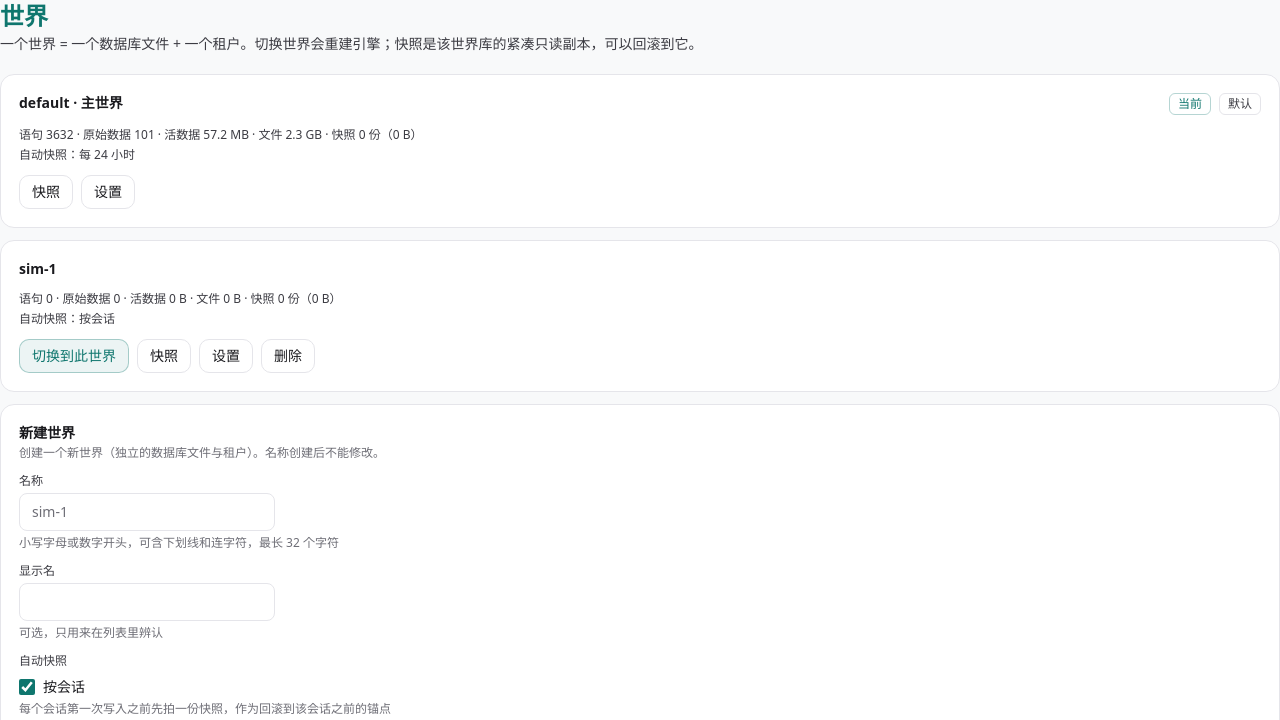
Test: /worlds 回滚到快照 › 每个快照行都有「回滚到此」;点开只弹确认框,显示丢弃后续与归档说明,不直接回滚
The image size is (1280, 720).
What coordinates should you click on to do the following:
click the button "快照" below "自动快照：按会话"
I would click on:
 (164, 356)
Its box is left=137, top=339, right=191, bottom=373.
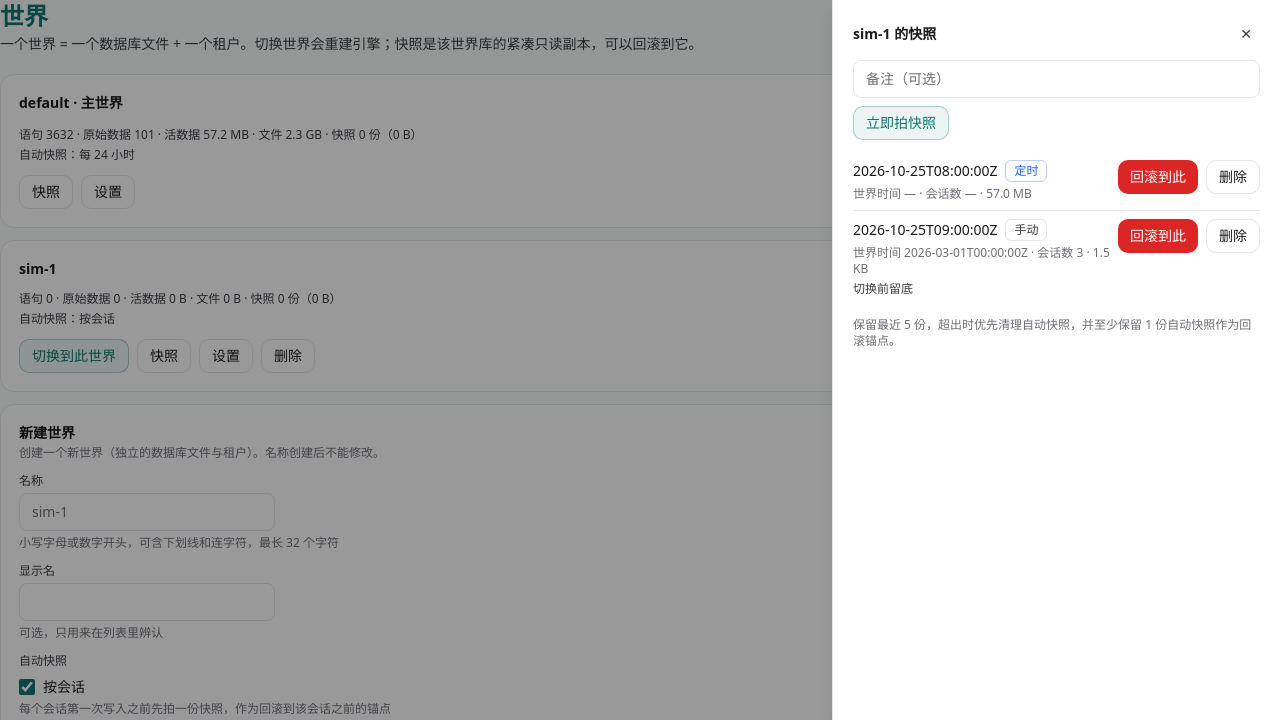
What coordinates should you click on to do the following:
click the button "回滚到此" in the row of "2026-10-25T09:00:00Z"
I would click on:
 (1158, 236)
Its box is left=1118, top=219, right=1198, bottom=253.
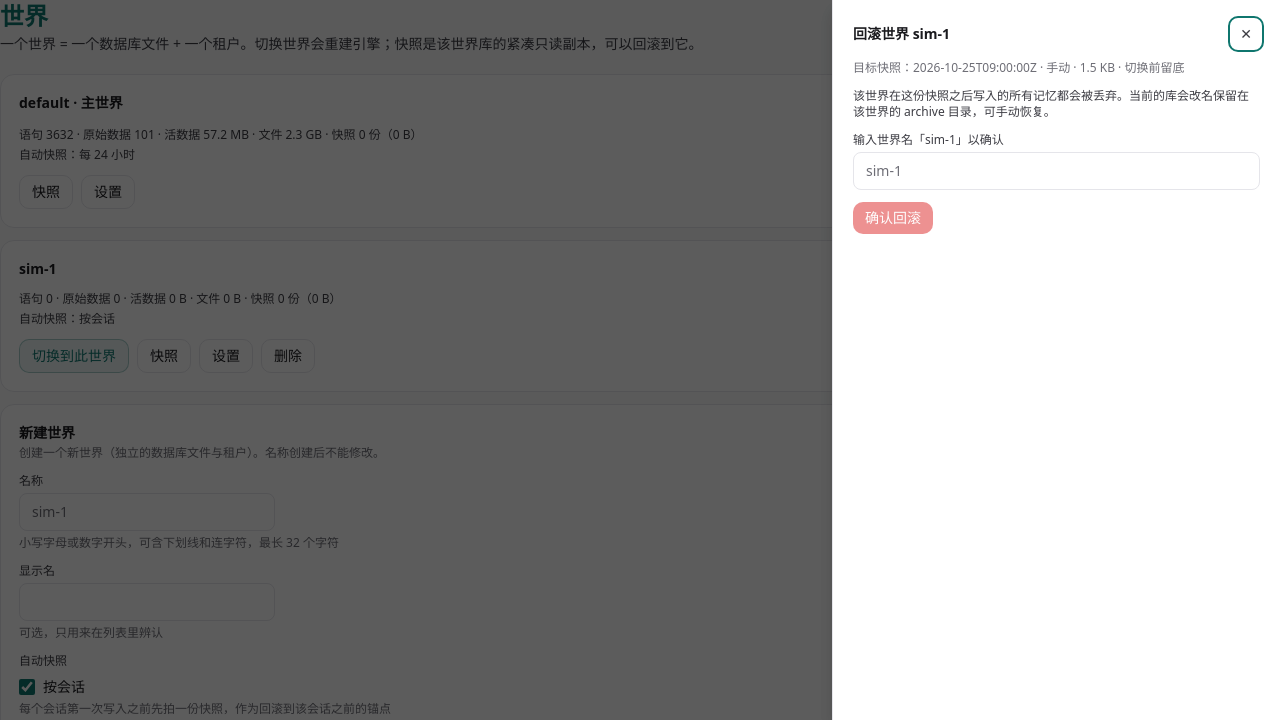
Check: the text "2026-10-25T09:00:00Z" is shown, box left=853, top=220, right=997, bottom=240
Check: the text "回滚世界 sim-1" is shown, box left=853, top=24, right=950, bottom=44
Check: the text "该世界在这份快照之后写入的所有记忆都会被丢弃。当前的库会改名保留在该世界的 archive 目录，可手动恢复。" is shown, box left=853, top=88, right=1260, bottom=120
